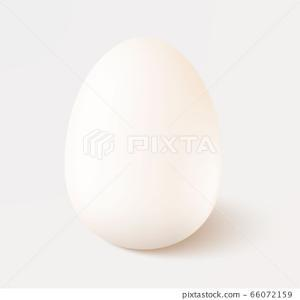Egg: (63, 36, 225, 252)
